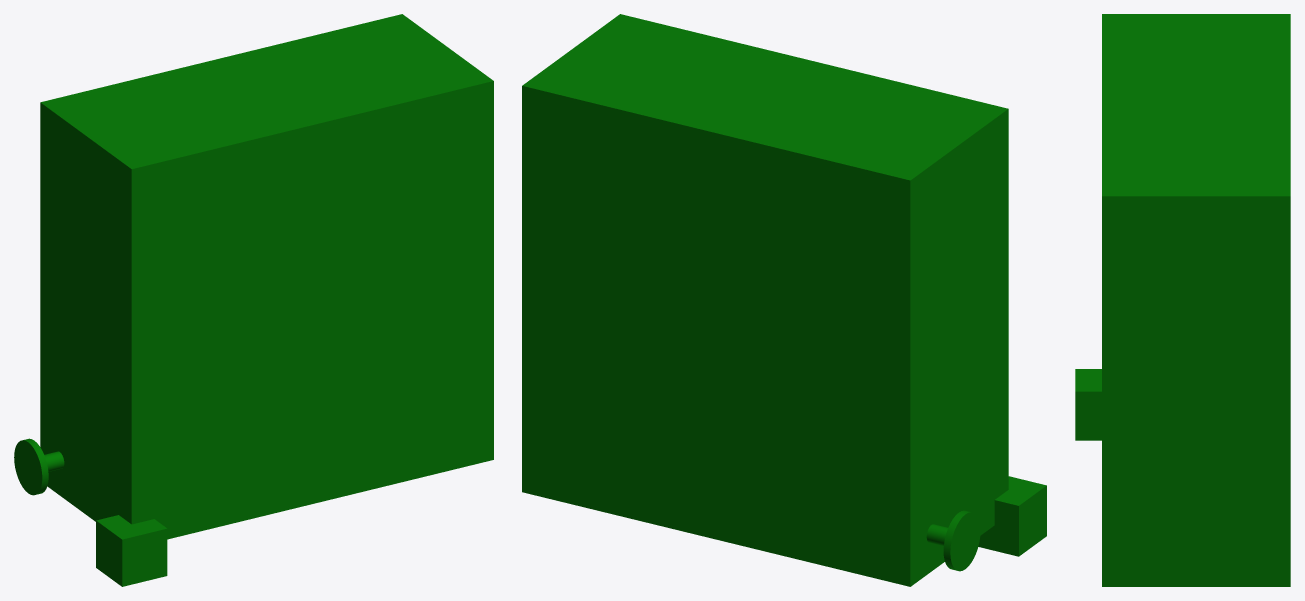
File: Image-1711348082580-2280310178816_71-SM53B.fbx
3 views of the same model, side by side, from view 1: azimuth 30°, elevation 25°; view 2: azimuth 150°, elevation 25°; view 3: azimuth 270°, elevation 25° (orthographic). The views are drawn at different scales.
Visible parts, largest first — view 1: BOX 1 of SUBEQUIPMENT /71-SM53B-PRIM, BOX 1 of SUBEQUIPMENT /71-2986WF, /71-SM53B-N1; view 2: BOX 1 of SUBEQUIPMENT /71-SM53B-PRIM, BOX 1 of SUBEQUIPMENT /71-2986WF, /71-SM53B-N1; view 3: BOX 1 of SUBEQUIPMENT /71-SM53B-PRIM, BOX 1 of SUBEQUIPMENT /71-2986WF.
Boxes of the visible parts, x1,y1,x2,y2 form: BOX 1 of SUBEQUIPMENT /71-SM53B-PRIM: (40, 14, 493, 539); BOX 1 of SUBEQUIPMENT /71-2986WF: (96, 515, 167, 586); /71-SM53B-N1: (14, 438, 64, 495); BOX 1 of SUBEQUIPMENT /71-SM53B-PRIM: (522, 14, 1008, 586); BOX 1 of SUBEQUIPMENT /71-2986WF: (978, 476, 1046, 556); /71-SM53B-N1: (926, 510, 980, 571); BOX 1 of SUBEQUIPMENT /71-SM53B-PRIM: (1102, 14, 1290, 586); BOX 1 of SUBEQUIPMENT /71-2986WF: (1075, 369, 1101, 440).
Size of the model in its own units: 0.87 by 0.4 by 0.85.
